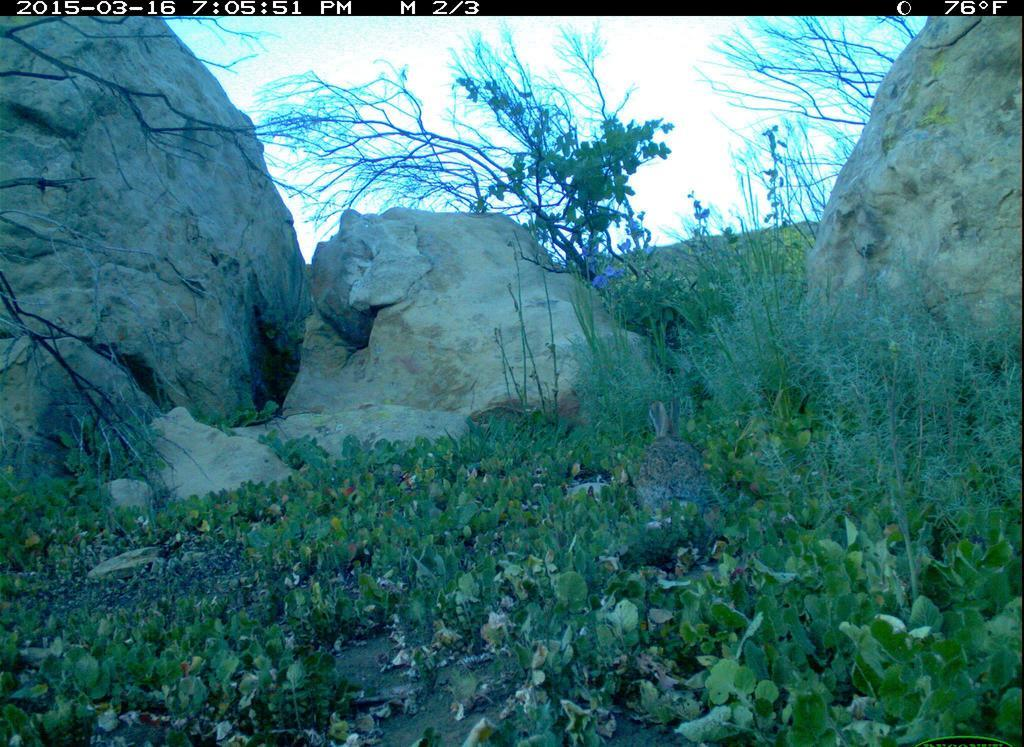rabbit: (625, 390, 715, 520)
